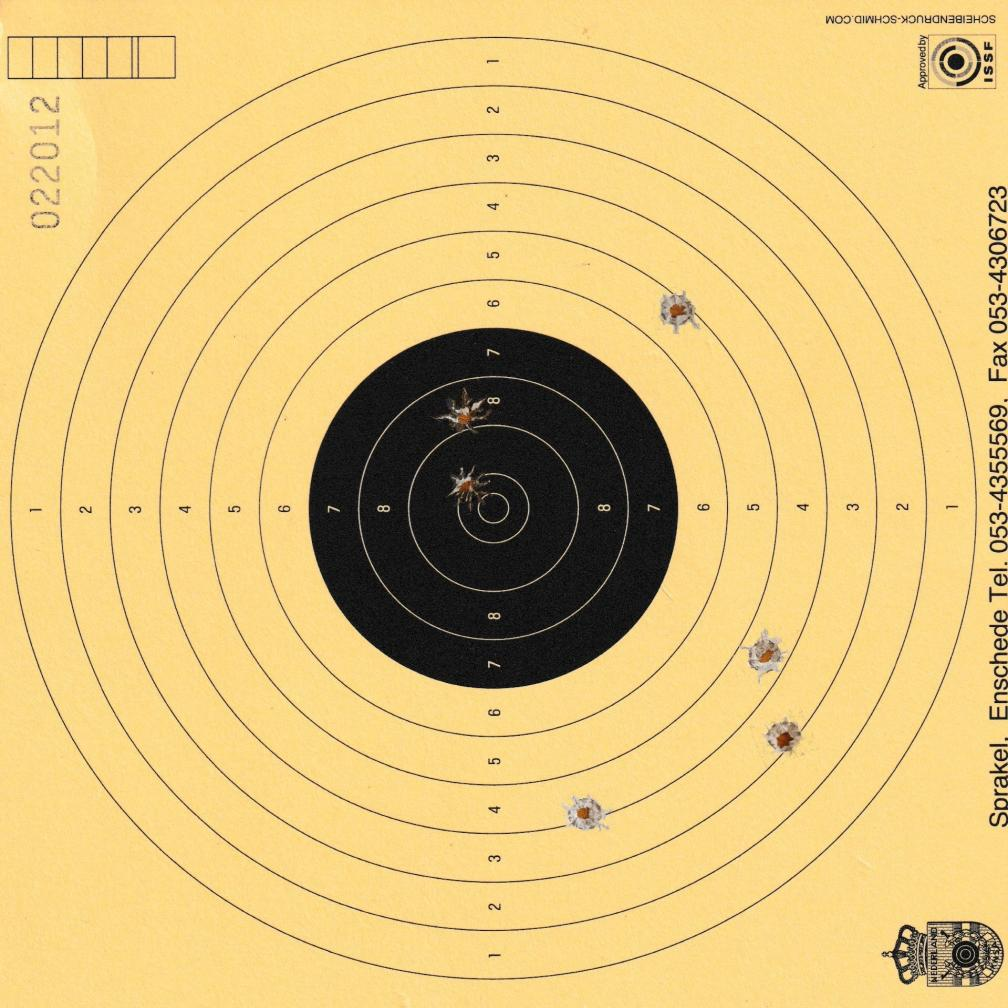10: (448, 460, 486, 504)
3: (764, 716, 808, 759)
4: (746, 629, 789, 678), (562, 794, 608, 835)
5: (653, 291, 706, 334)
9: (439, 391, 492, 436)
Target: (6, 31, 982, 980)
black_contour: (309, 329, 679, 688)
